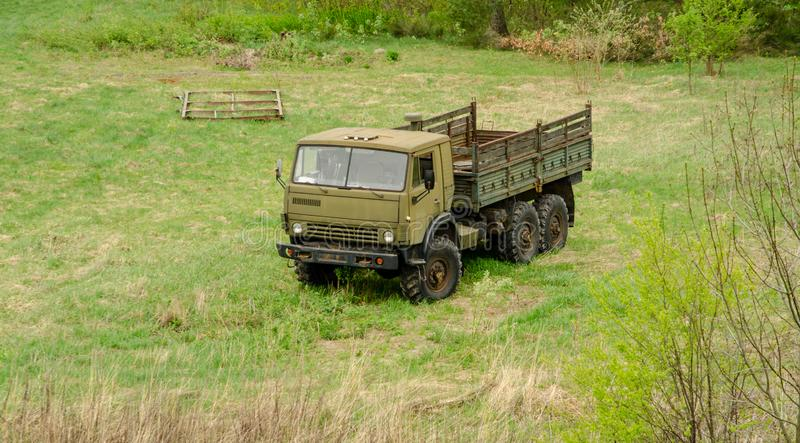camion: (286, 112, 589, 298)
